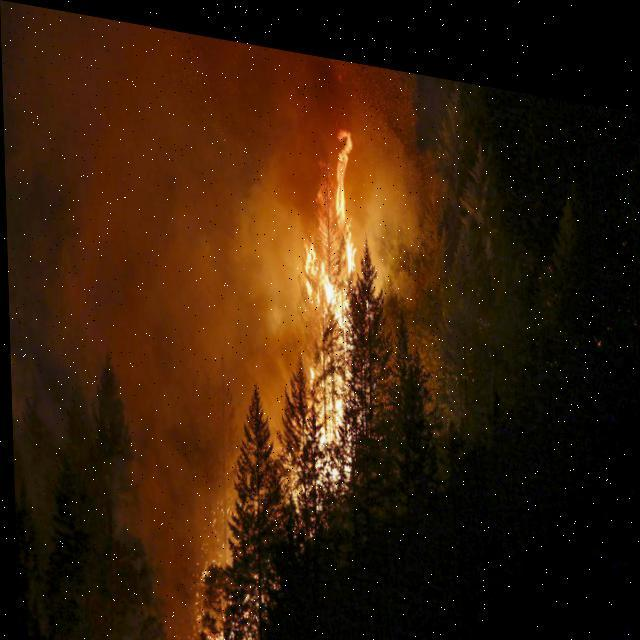Fire: (287, 106, 369, 478)
